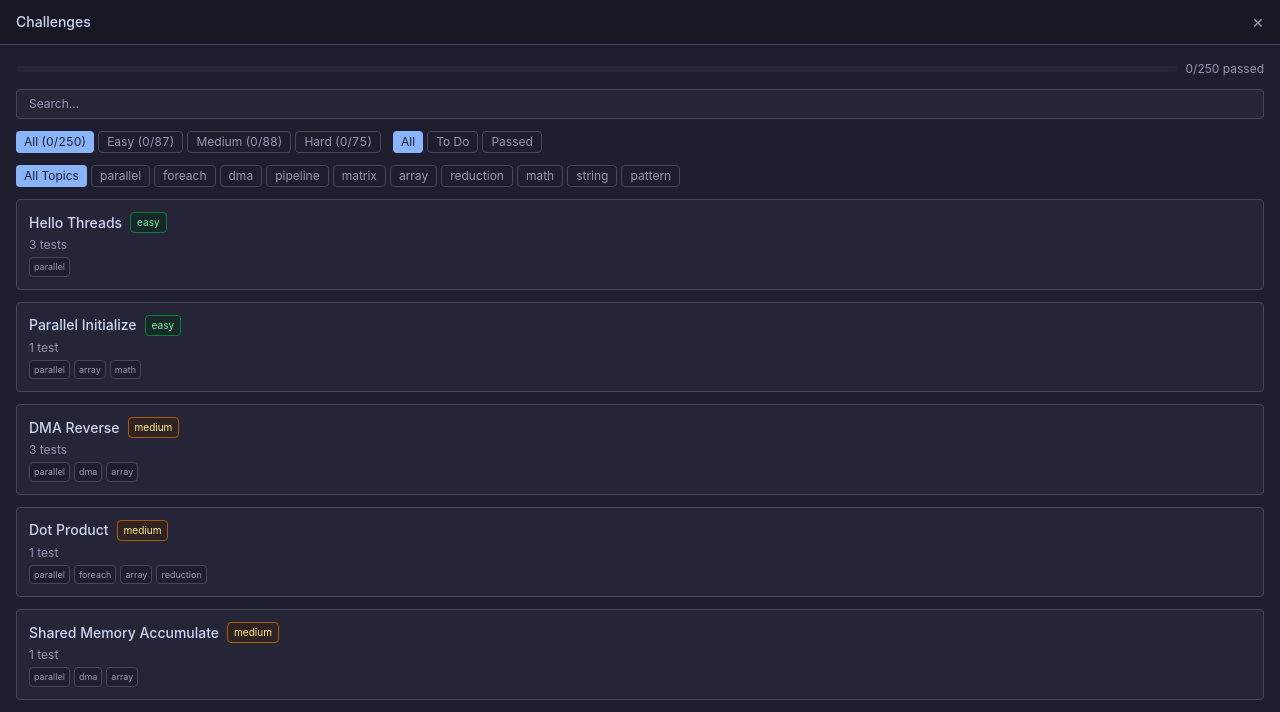
Test case: ChallengePanel › shows expected/actual diff when test fails with output
The width and height of the screenshot is (1280, 712).
What coordinates should you click on to do the following:
click the text "Hello Threads"
I would click on:
 (76, 222)
Its box is [29,212,122,232].
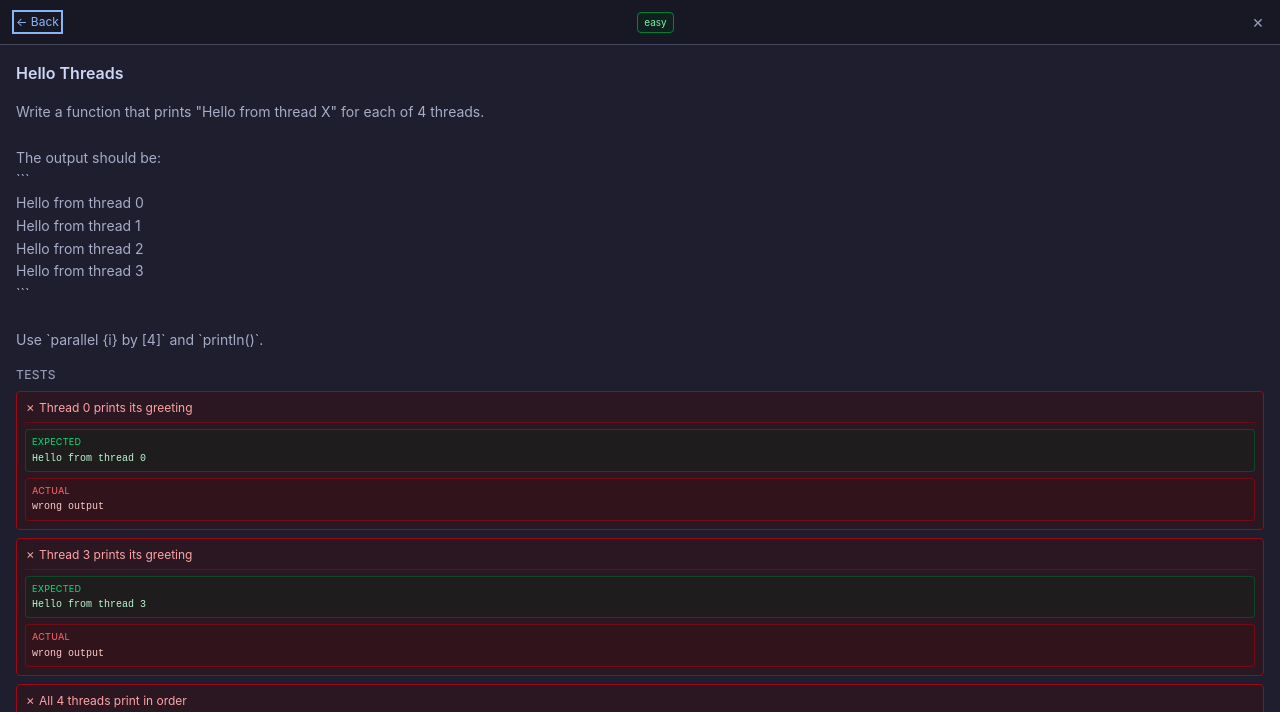
Result: the element with test id "test-expected" showing "Expected Hello from thread 0" is shown at [25,429,1255,472]
Result: the element with test id "test-actual" below "Thread 0 prints its greeting" is shown at [25,478,1255,521]
